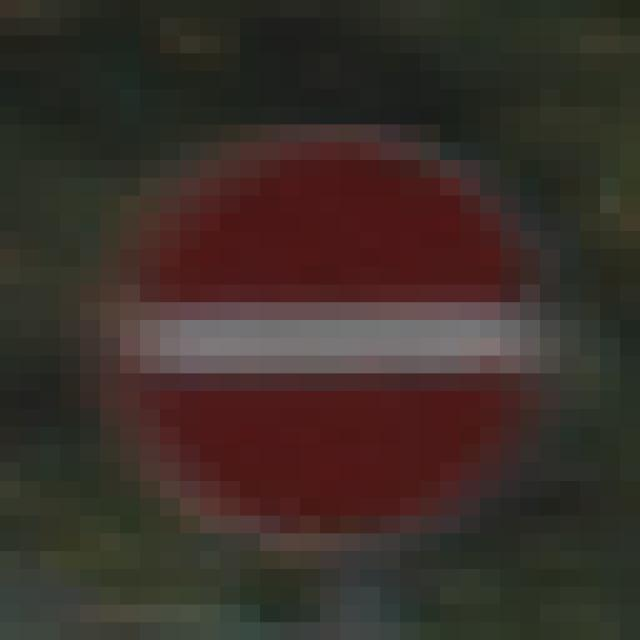No Entry: (101, 108, 541, 552)
